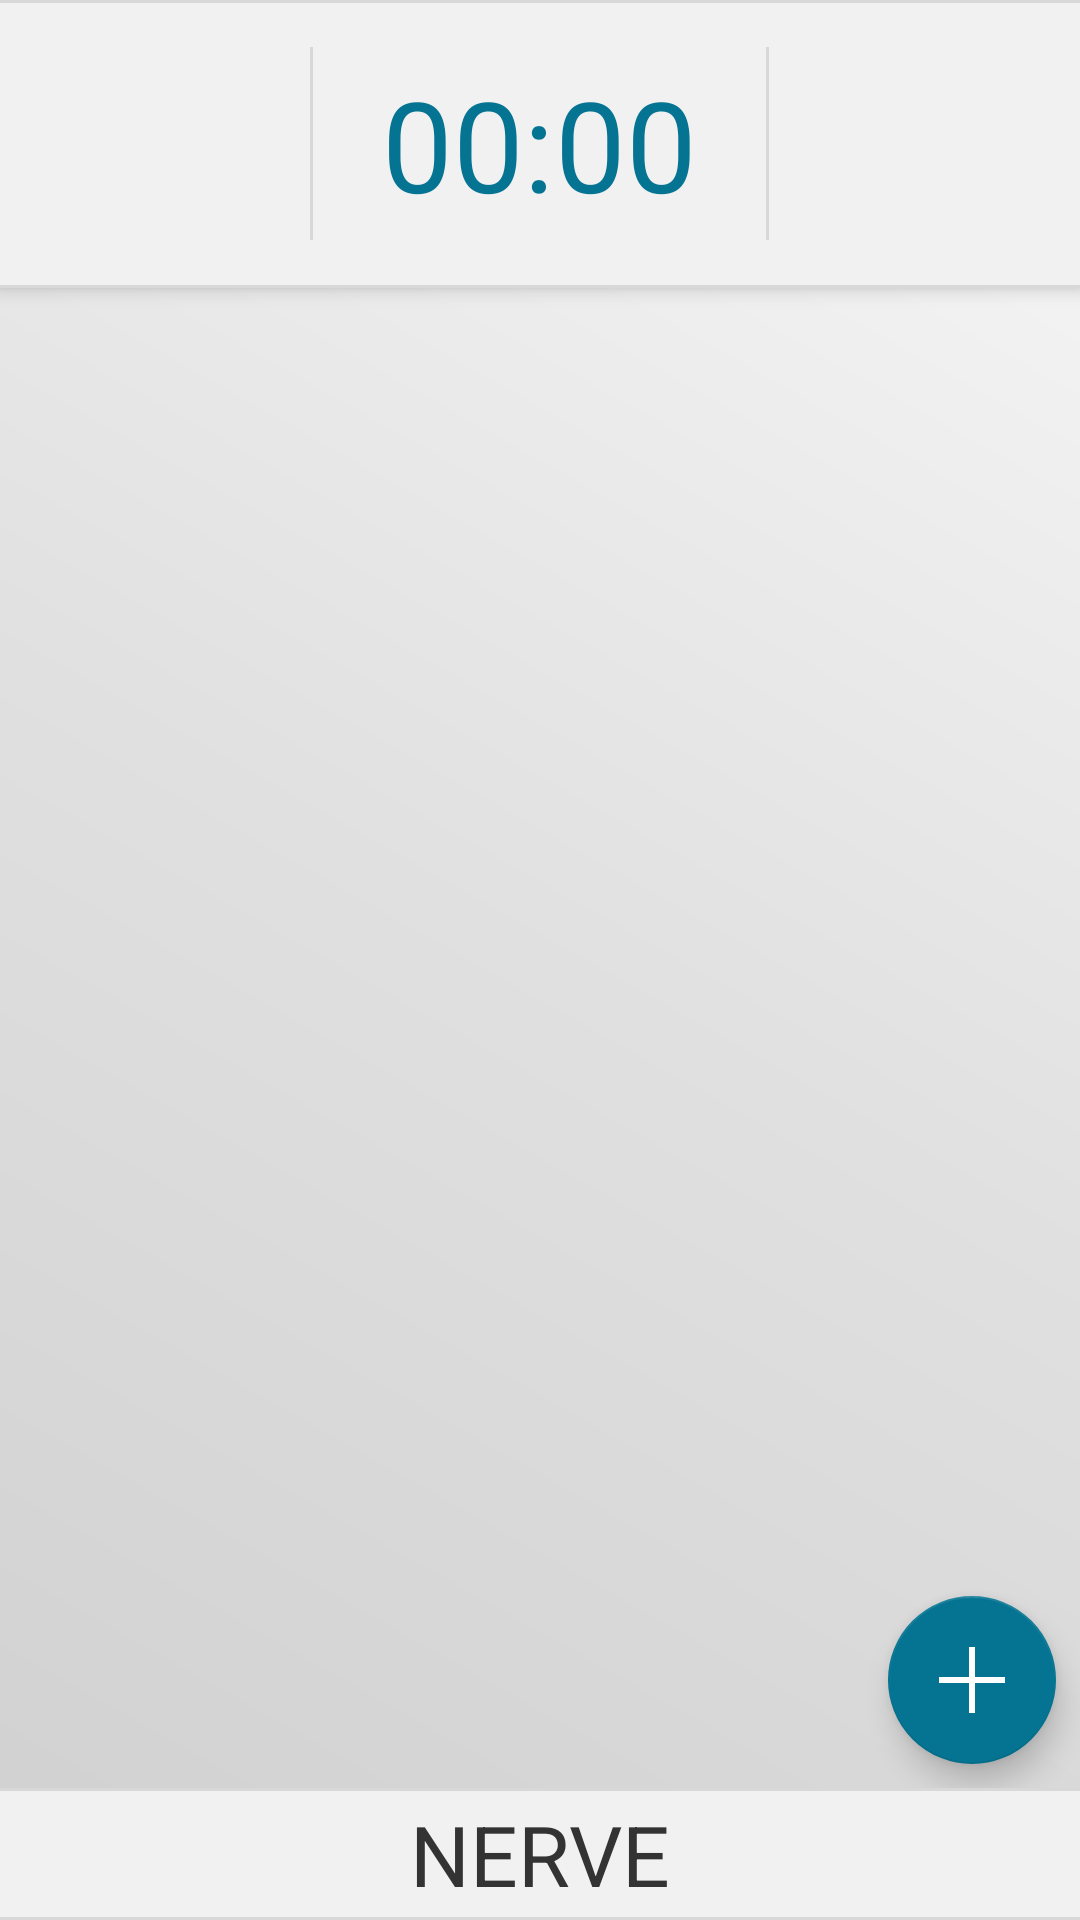

Named icons in this screenshot (1080*1920) and their bounding boxes, BBox(x1, y1, x2, y2):
add: BBox(888, 1596, 1056, 1764)
